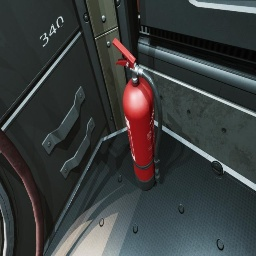FireExtinguisher ]: (112, 38, 163, 190)
